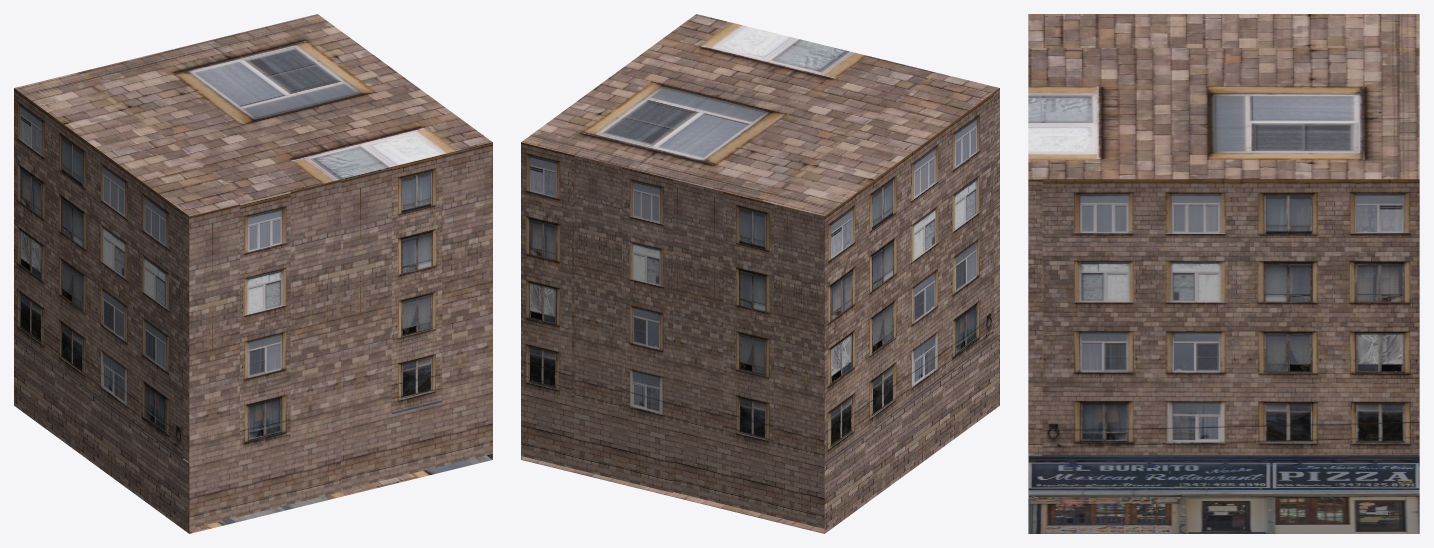
Rendered from edificio 6.fbx.
3 renders of one model, left to right at view 1: azimuth 30°, elevation 25°; view 2: azimuth 150°, elevation 25°; view 3: azimuth 270°, elevation 25°, orthographic. The views are drawn at different scales.
Visible parts, largest first — view 1: Cube; view 2: Cube; view 3: Cube.
Boxes of the visible parts, <box> form: Cube: <box>14,14,492,533</box>; Cube: <box>521,14,999,533</box>; Cube: <box>1028,14,1419,533</box>.
Size of the model in its own units: 200 by 200 by 200.
